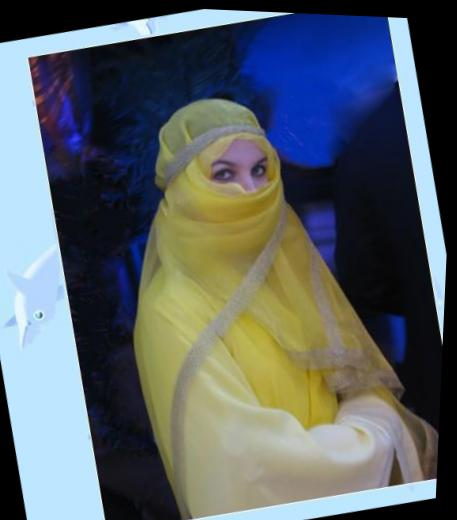WRONG: (191, 136, 290, 249)
